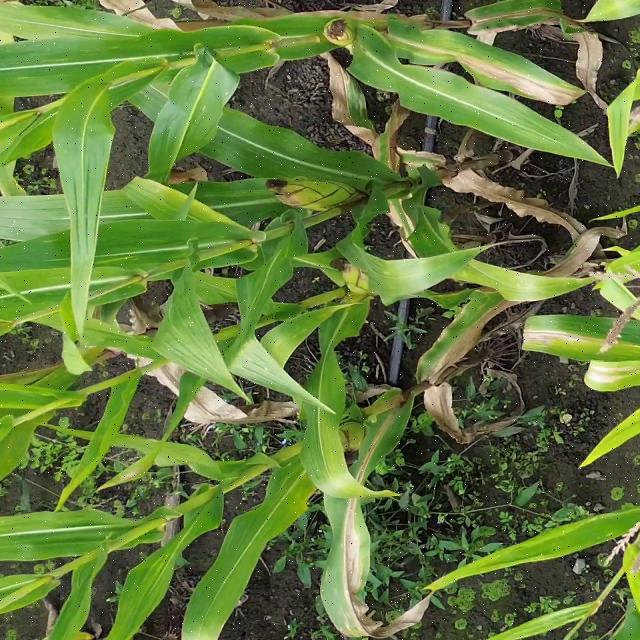northern-leaf-blight: (412, 36, 554, 86), (339, 428, 378, 532), (511, 319, 599, 351), (475, 3, 559, 28), (581, 361, 640, 387)
southern-leaf-blight: (8, 38, 120, 68)
